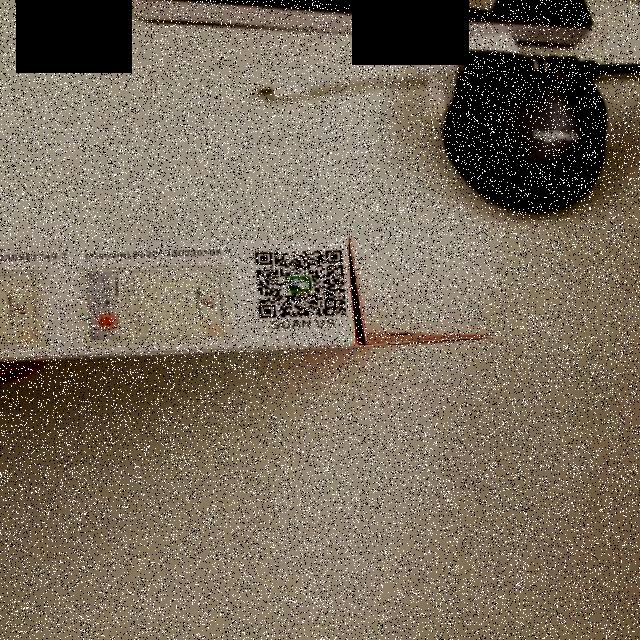QR_CODE: (248, 240, 358, 330)
